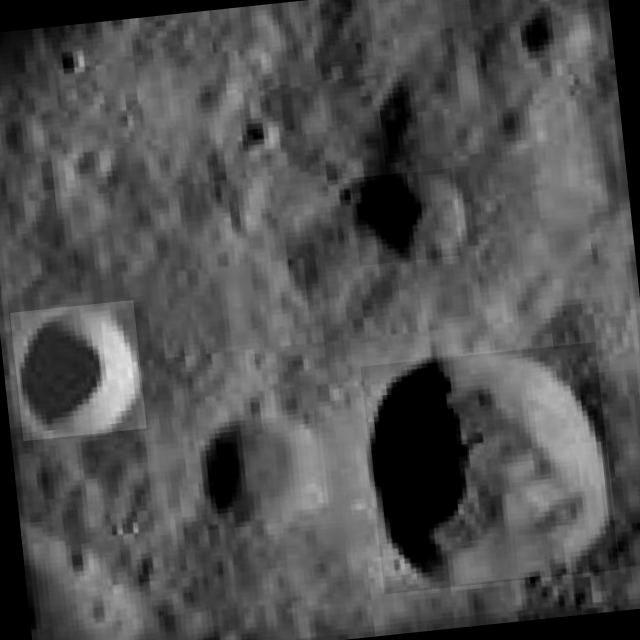crater: (361, 342, 618, 594), (10, 300, 146, 440), (195, 413, 327, 530), (350, 167, 460, 266)
